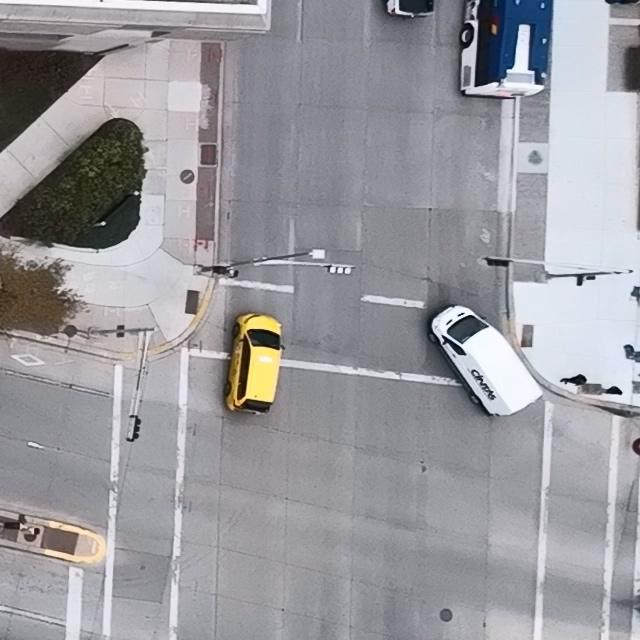car: (428, 306, 544, 417), (459, 0, 550, 100), (225, 312, 285, 415)
